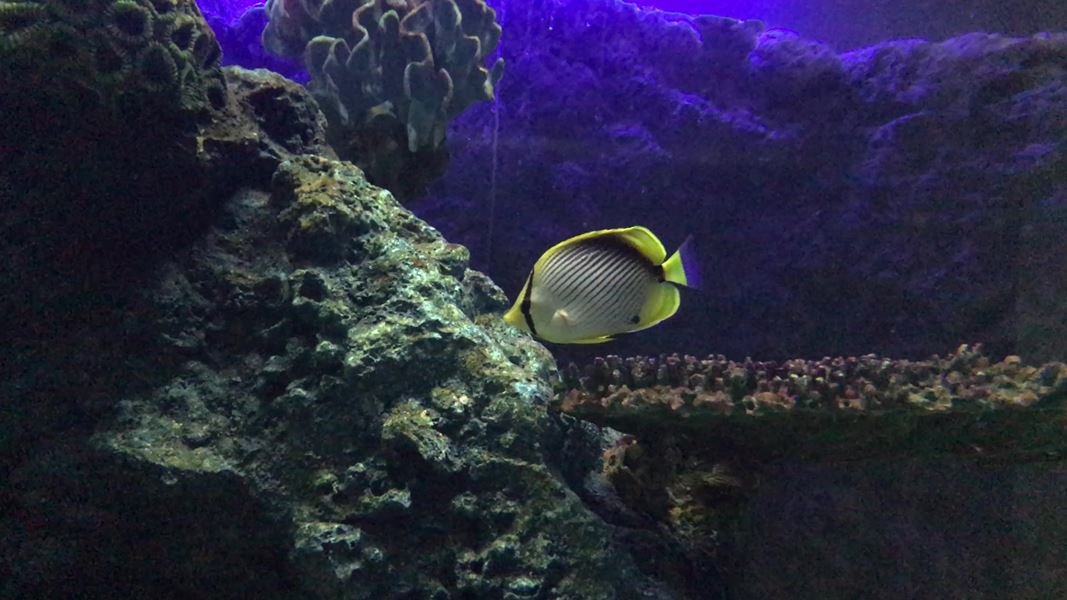Black-backed butterflyfish: (494, 216, 716, 356)
